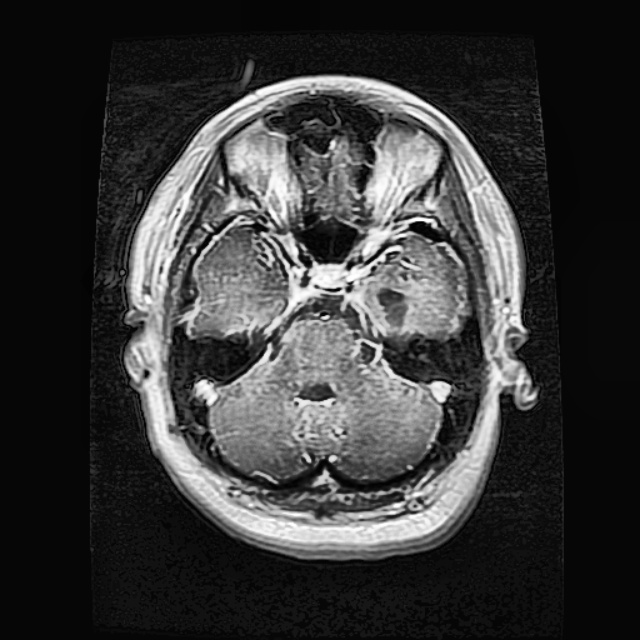Meningioma: (374, 284, 413, 334)
